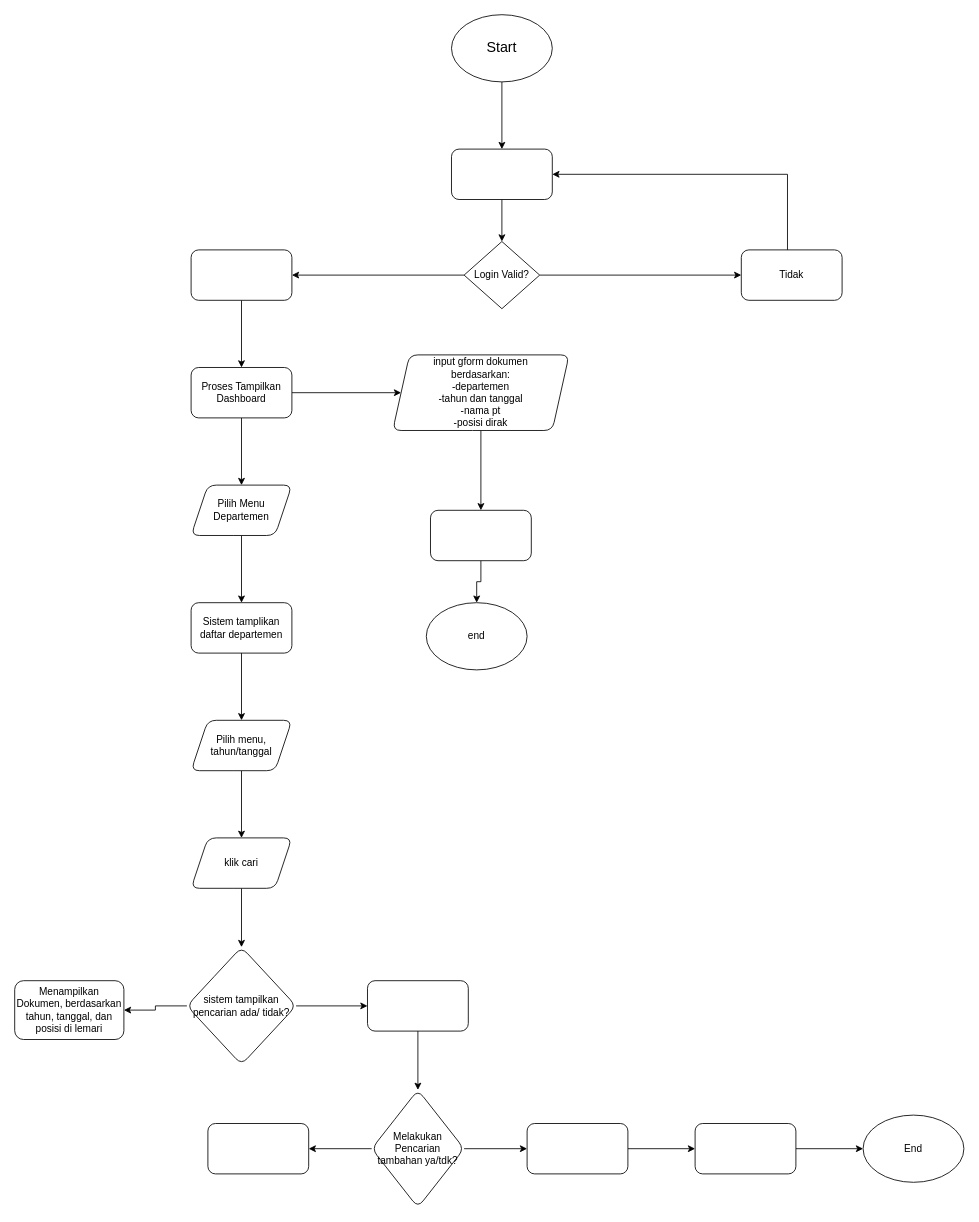
This 979x1222 diagram has some shape labels left out. Here are the shapes that lost their labels. From the top down, the box of each, then its label:
(451, 148, 552, 200): User Login
(190, 249, 292, 300): Ya
(430, 509, 531, 561): dokumen tersimpan
(367, 980, 468, 1031): Dokumen tdk ditemukan
(207, 1123, 309, 1174): Dokumen tidak ditemukan
(526, 1123, 628, 1174): Melakukan Pencarian berdasarkan posisi rak
(694, 1123, 796, 1174): dokumen ditemukan
